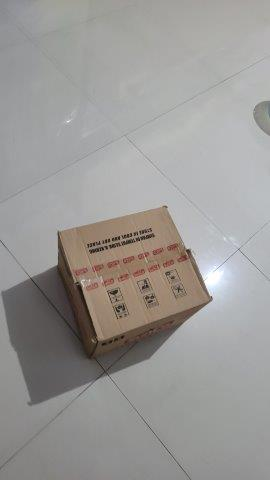kardus: (57, 206, 211, 357)
